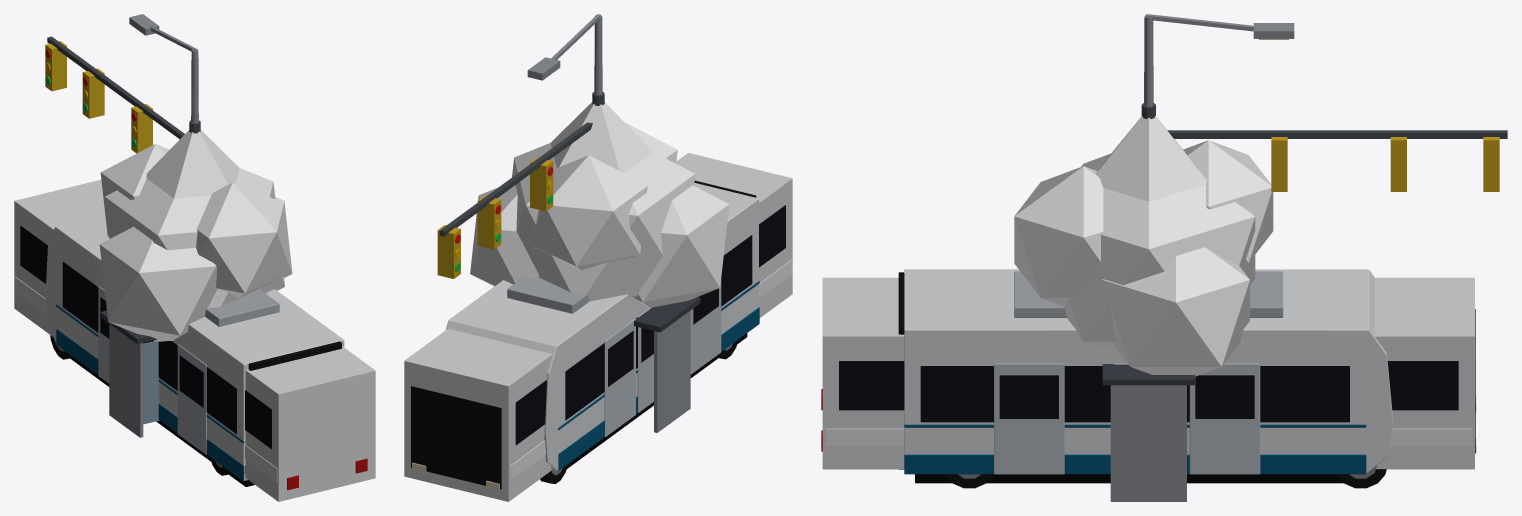
Rendered from props.glb.
3 renders of one model, left to right at view 1: azimuth 30°, elevation 25°; view 2: azimuth 150°, elevation 25°; view 3: azimuth 270°, elevation 25°, orthographic. The views are drawn at different scales.
Parts seen in each view (by area): view 1: prop_tree_round, prop_tram_end, prop_bus, prop_shelter, prop_signal, prop_tree_upright, prop_lamp, prop_tram_mid; view 2: prop_tree_round, prop_bus, prop_tram_end, prop_signal, prop_shelter, prop_tree_upright, prop_tram_mid, prop_lamp; view 3: prop_tram_end, prop_tree_round, prop_bus, prop_shelter, prop_signal, prop_tree_upright, prop_lamp, prop_tram_mid.
Part boxes in pixels (bbox=[...]): prop_tree_round: bbox=[99, 144, 292, 341]; prop_tram_end: bbox=[45, 215, 344, 486]; prop_bus: bbox=[14, 179, 375, 501]; prop_shelter: bbox=[100, 310, 159, 437]; prop_signal: bbox=[45, 36, 200, 153]; prop_tree_upright: bbox=[146, 130, 239, 198]; prop_lamp: bbox=[129, 14, 198, 123]; prop_tram_mid: bbox=[69, 237, 317, 459]; prop_tree_round: bbox=[470, 122, 729, 307]; prop_bus: bbox=[404, 153, 792, 501]; prop_tram_end: bbox=[445, 180, 759, 470]; prop_signal: bbox=[437, 92, 604, 278]; prop_shelter: bbox=[634, 297, 700, 432]; prop_tree_upright: bbox=[550, 102, 652, 173]; prop_tram_mid: bbox=[465, 217, 732, 465]; prop_lamp: bbox=[527, 14, 602, 95]; prop_tram_end: bbox=[898, 269, 1393, 483]; prop_tree_round: bbox=[1014, 140, 1273, 376]; prop_bus: bbox=[821, 277, 1476, 488]; prop_shelter: bbox=[1102, 364, 1194, 501]; prop_signal: bbox=[1141, 103, 1507, 191]; prop_tree_upright: bbox=[1096, 116, 1206, 201]; prop_lamp: bbox=[1144, 14, 1294, 106]; prop_tram_mid: bbox=[964, 300, 1332, 427].
Bounding box in the file's own units: 5.25 × 9.24 × 12.63.
